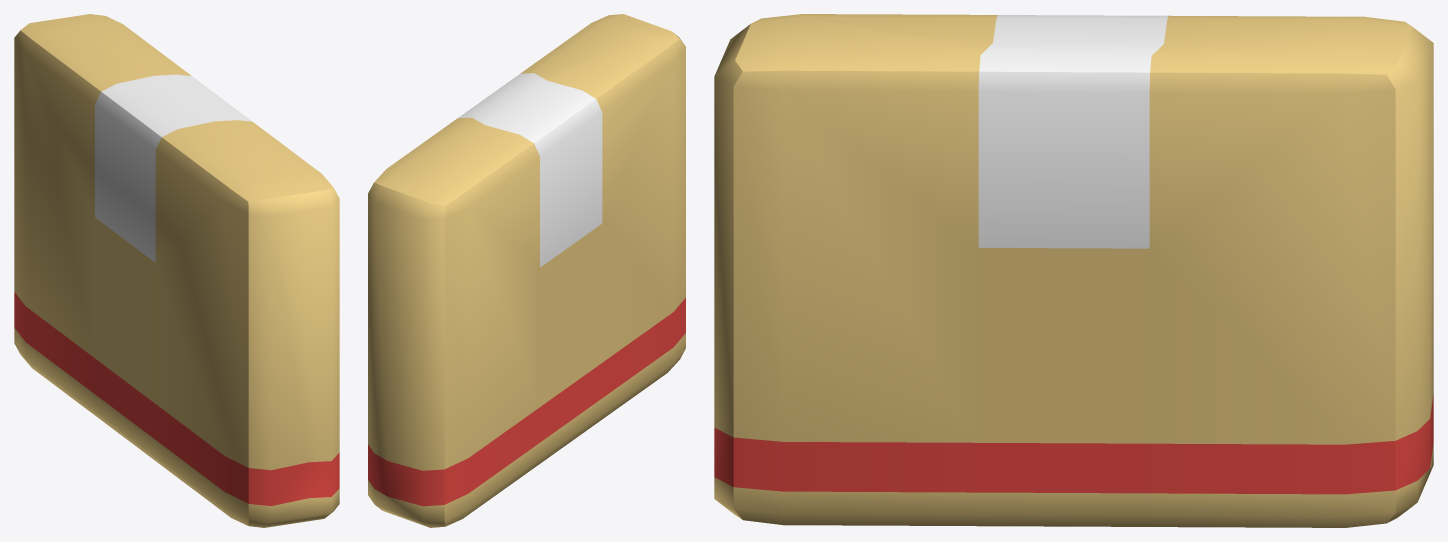
Rendered from Props_Box_Red_05.fbx.
The picture shows the model from 3 angles, left to right: view 1: azimuth 30°, elevation 25°; view 2: azimuth 150°, elevation 25°; view 3: azimuth 270°, elevation 25°; orthographic projection. The views are drawn at different scales.
Visible parts, largest first — view 1: Props_Box_Red_05; view 2: Props_Box_Red_05; view 3: Props_Box_Red_05.
Boxes of the visible parts, x1,y1,x2,y2 form: Props_Box_Red_05: (14,14,339,527); Props_Box_Red_05: (368,14,685,527); Props_Box_Red_05: (714,14,1433,527).
Bounding box in the file's own units: 11.93 × 38.37 × 53.48.
